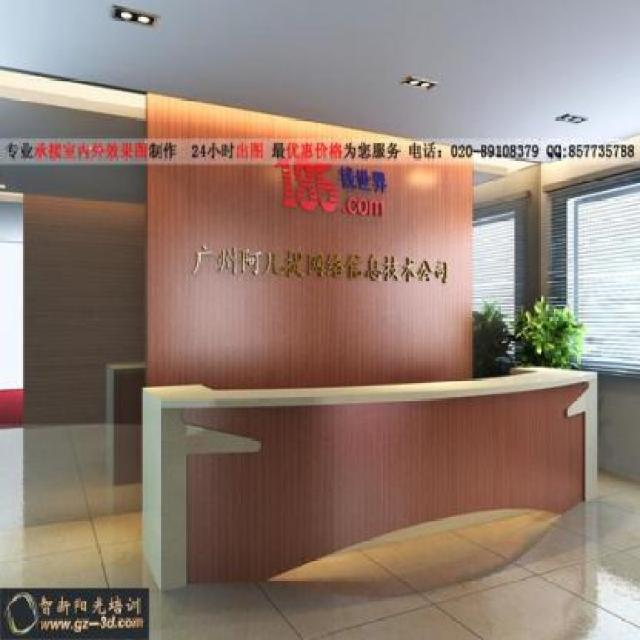frontdesk: (129, 351, 601, 600)
